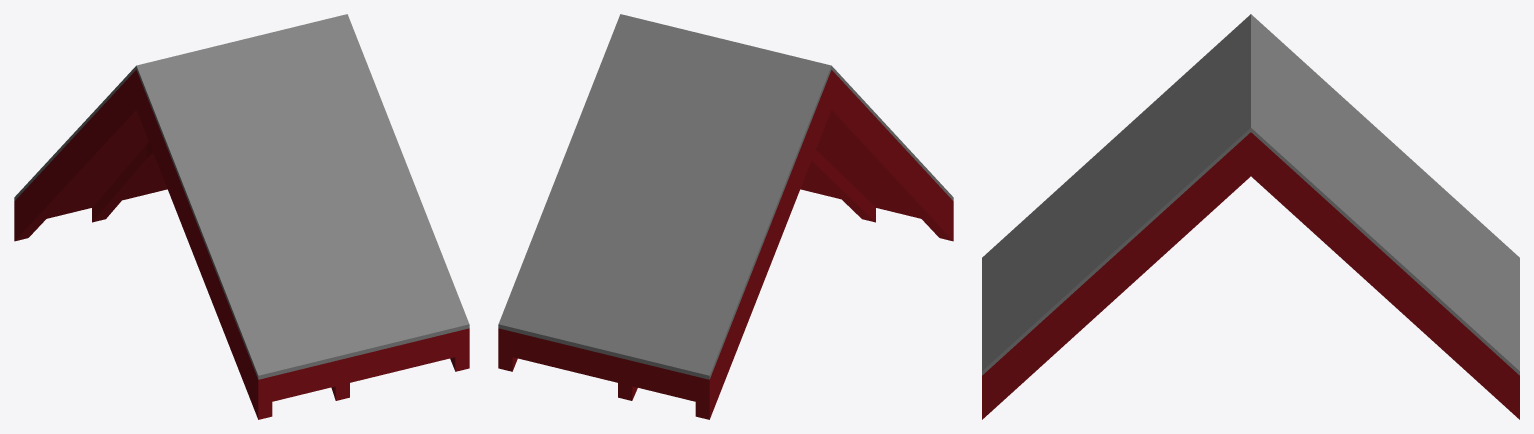
The model's file is SM_MH_01_Slate_Roof_Top_Half_01.fbx.
3 views of the same model, side by side, from view 1: azimuth 30°, elevation 25°; view 2: azimuth 150°, elevation 25°; view 3: azimuth 270°, elevation 25° (orthographic). The views are drawn at different scales.
Visible parts, largest first — view 1: SM_MH_01_Slate_Roof_Top_Half_01_LOD0; view 2: SM_MH_01_Slate_Roof_Top_Half_01_LOD0; view 3: SM_MH_01_Slate_Roof_Top_Half_01_LOD0.
Part boxes in pixels (left/top/right/bottom): SM_MH_01_Slate_Roof_Top_Half_01_LOD0: left=14, top=14, right=469, bottom=419; SM_MH_01_Slate_Roof_Top_Half_01_LOD0: left=498, top=14, right=953, bottom=419; SM_MH_01_Slate_Roof_Top_Half_01_LOD0: left=982, top=14, right=1519, bottom=419.
Size of what is drawn, in the model's own units: 150 by 180 by 300.
